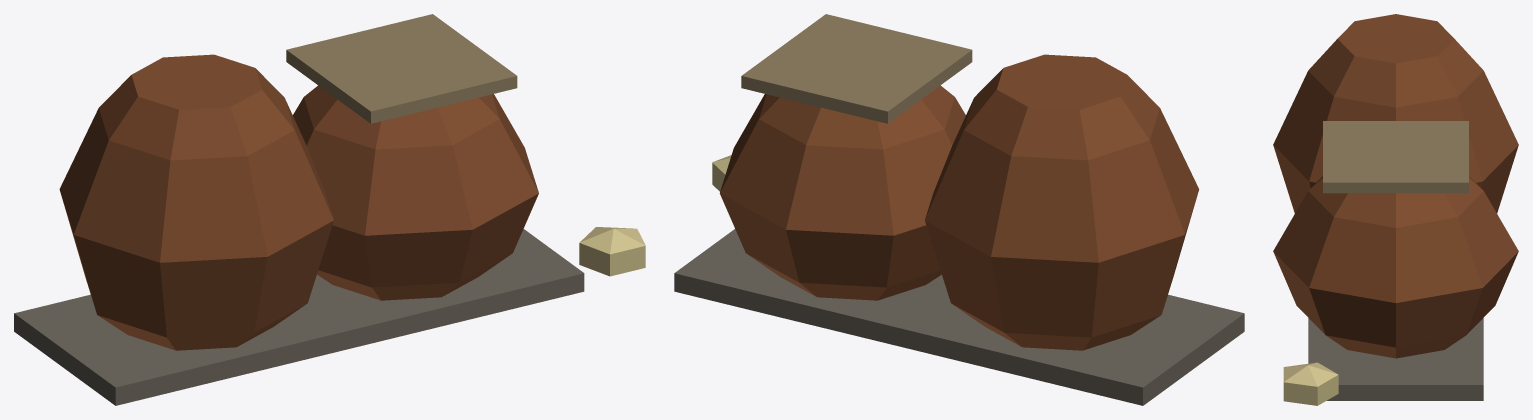
Rendered from a1r_drink_jars.glb.
3 renders of one model, left to right at view 1: azimuth 30°, elevation 25°; view 2: azimuth 150°, elevation 25°; view 3: azimuth 270°, elevation 25°, orthographic. The views are drawn at different scales.
Parts seen in each view (by area): view 1: a1r_drink_jars; view 2: a1r_drink_jars; view 3: a1r_drink_jars.
Boxes of the visible parts, x1,y1,x2,y2 form: a1r_drink_jars: [14, 14, 645, 405]; a1r_drink_jars: [674, 14, 1244, 405]; a1r_drink_jars: [1273, 14, 1518, 405].
Bounding box in the file's own units: 1.8 × 0.83 × 0.84.
